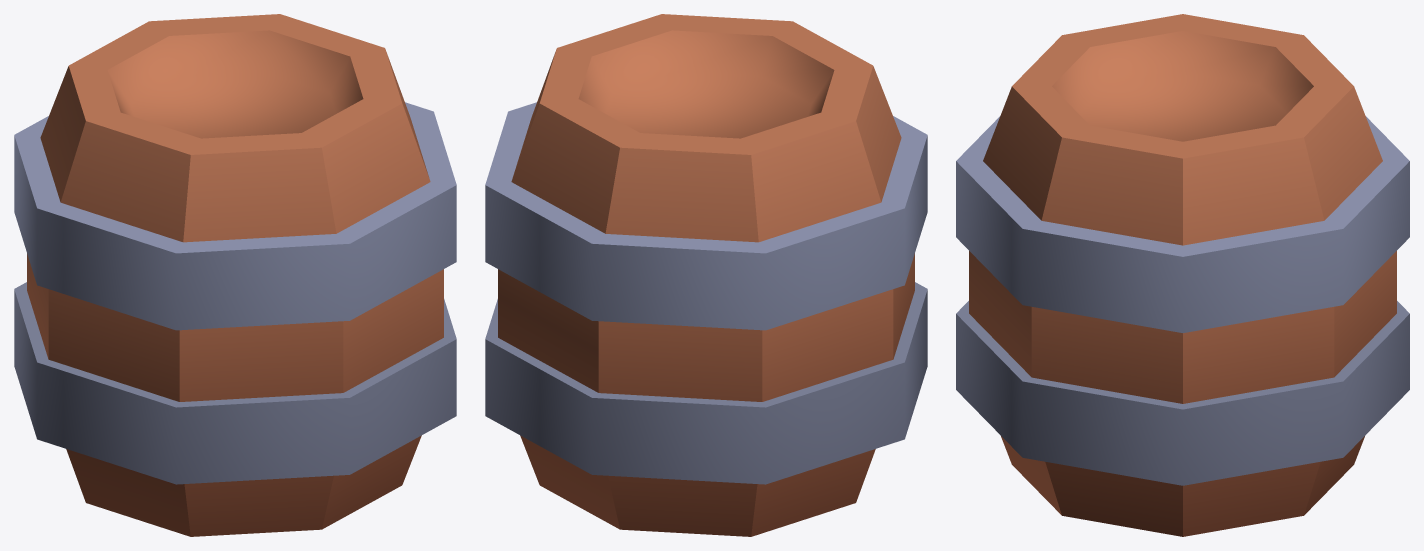
Rendered from barrel.fbx.
3 views of the same model, side by side, from view 1: azimuth 30°, elevation 25°; view 2: azimuth 150°, elevation 25°; view 3: azimuth 270°, elevation 25° (orthographic).
Parts seen in each view (by area): view 1: barrel; view 2: barrel; view 3: barrel.
Boxes of the visible parts, box(x1,y1,x2,y2) form: barrel: box(14, 14, 456, 536); barrel: box(485, 14, 927, 536); barrel: box(956, 14, 1409, 536).
Size of the model in its own units: 1.09 by 1 by 1.09.
